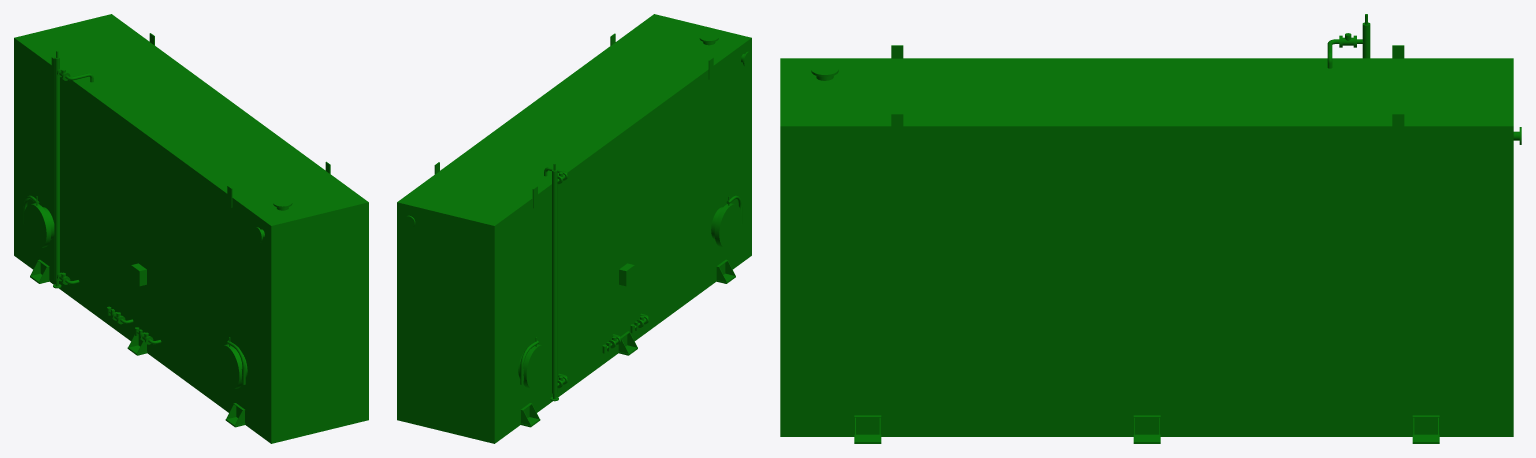
Rendered from Image-1710907725677-2281025818640_42-TB51.fbx.
3 renders of one model, left to right at view 1: azimuth 30°, elevation 25°; view 2: azimuth 150°, elevation 25°; view 3: azimuth 270°, elevation 25°, orthographic. The views are drawn at different scales.
Visible parts, largest first — view 1: BOX 1 of SUBEQUIPMENT /42-TB51/PRIM, BOX 2 of SUBEQUIPMENT /42-TB51/PRIM, CYLINDER 15 of SUBEQUIPMENT /42-LG2006, CYLINDER 11 of SUBEQUIPMENT /42-TB51/PRIM, CYLINDER 4 of SUBEQUIPMENT /42-TB51/PRIM; view 2: BOX 1 of SUBEQUIPMENT /42-TB51/PRIM, BOX 2 of SUBEQUIPMENT /42-TB51/PRIM, CYLINDER 15 of SUBEQUIPMENT /42-LG2006, CYLINDER 4 of SUBEQUIPMENT /42-TB51/PRIM, CYLINDER 11 of SUBEQUIPMENT /42-TB51/PRIM; view 3: BOX 1 of SUBEQUIPMENT /42-TB51/PRIM, BOX 2 of SUBEQUIPMENT /42-TB51/PRIM.
Part boxes in pixels (x1,y1,x2,y2): BOX 1 of SUBEQUIPMENT /42-TB51/PRIM: [14, 14, 368, 427]; BOX 2 of SUBEQUIPMENT /42-TB51/PRIM: [14, 239, 368, 443]; CYLINDER 15 of SUBEQUIPMENT /42-LG2006: [54, 56, 59, 281]; CYLINDER 11 of SUBEQUIPMENT /42-TB51/PRIM: [216, 345, 241, 389]; CYLINDER 4 of SUBEQUIPMENT /42-TB51/PRIM: [24, 203, 48, 248]; BOX 1 of SUBEQUIPMENT /42-TB51/PRIM: [397, 14, 751, 427]; BOX 2 of SUBEQUIPMENT /42-TB51/PRIM: [397, 236, 751, 443]; CYLINDER 15 of SUBEQUIPMENT /42-LG2006: [552, 169, 557, 393]; CYLINDER 4 of SUBEQUIPMENT /42-TB51/PRIM: [524, 344, 549, 389]; CYLINDER 11 of SUBEQUIPMENT /42-TB51/PRIM: [717, 203, 741, 248]; BOX 1 of SUBEQUIPMENT /42-TB51/PRIM: [780, 58, 1513, 414]; BOX 2 of SUBEQUIPMENT /42-TB51/PRIM: [780, 414, 1513, 436].
Bounding box in the file's own units: 2.48 × 9.32 × 4.84.
